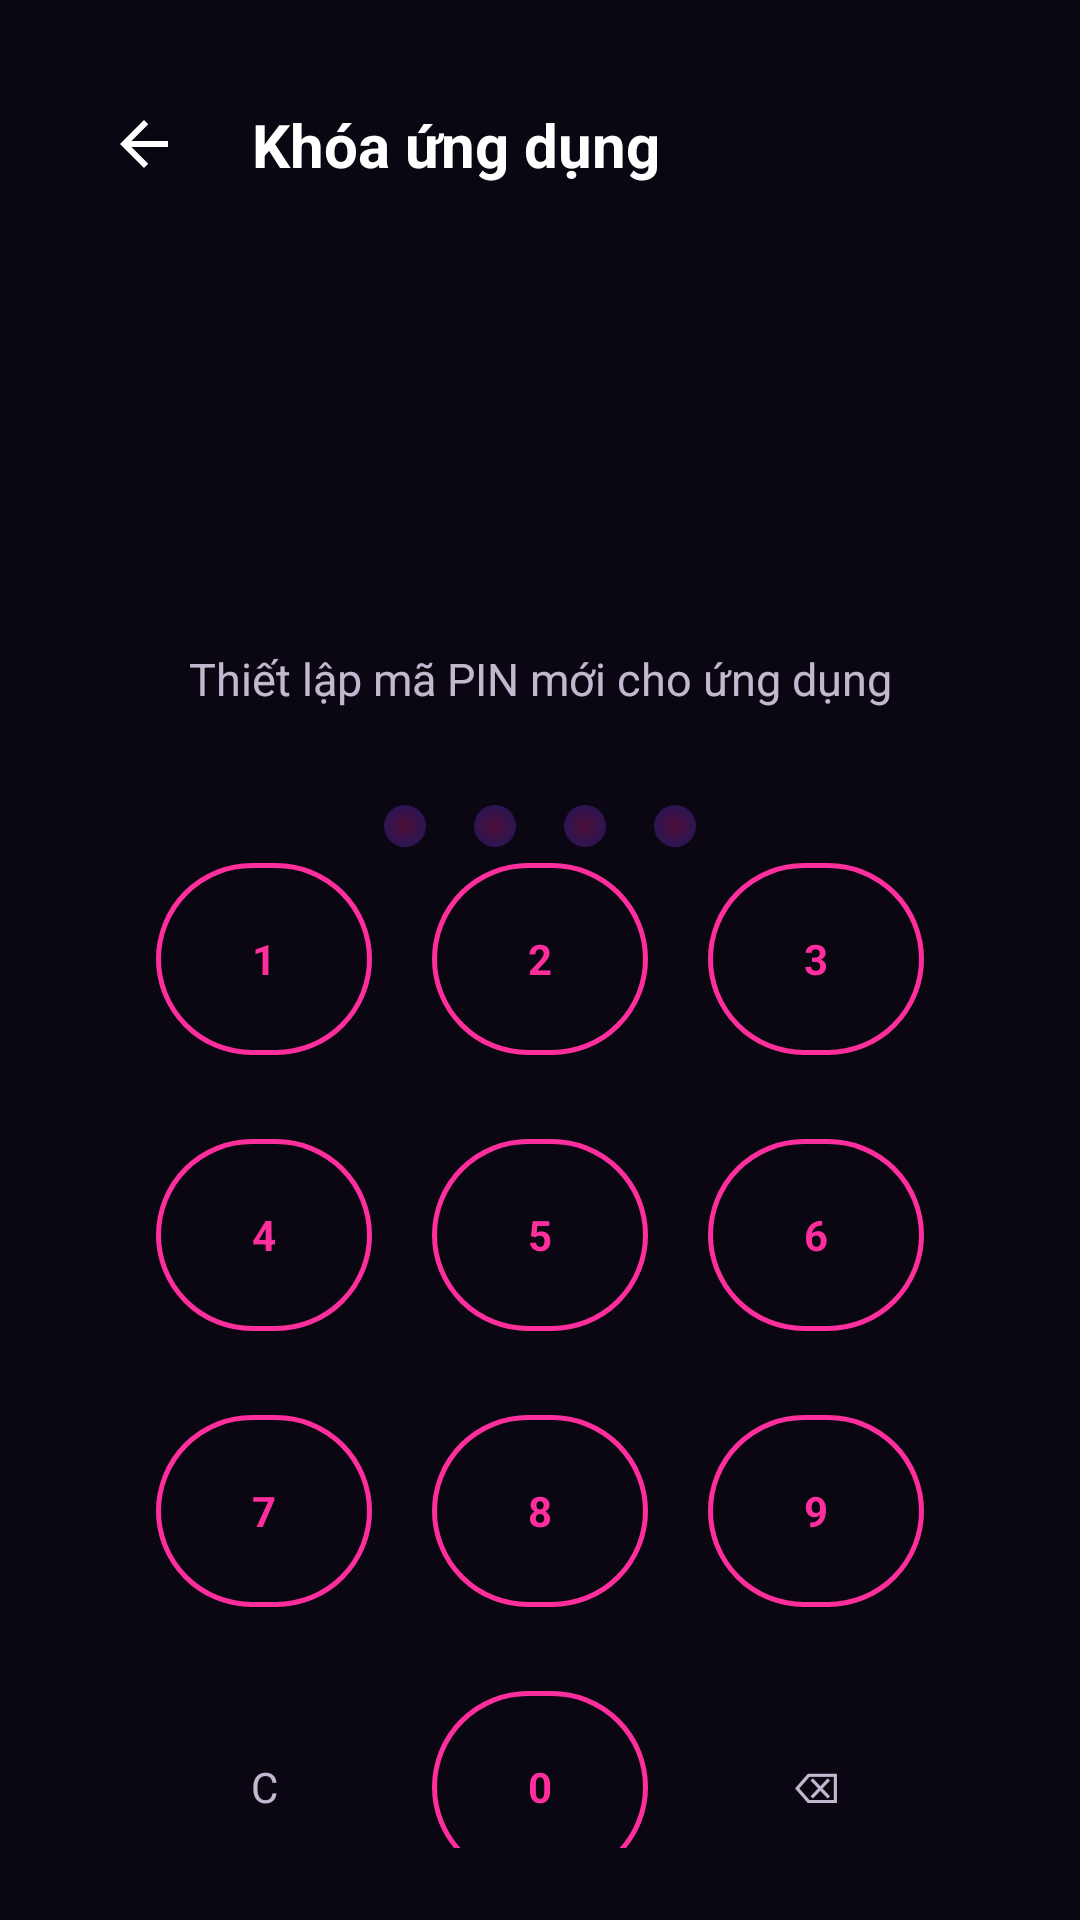

Icon bounding boxes for this 1080 x 1920 phone screenshot, format (x1, y1, x2, y2):
Quay lại: (120, 120, 168, 168)
